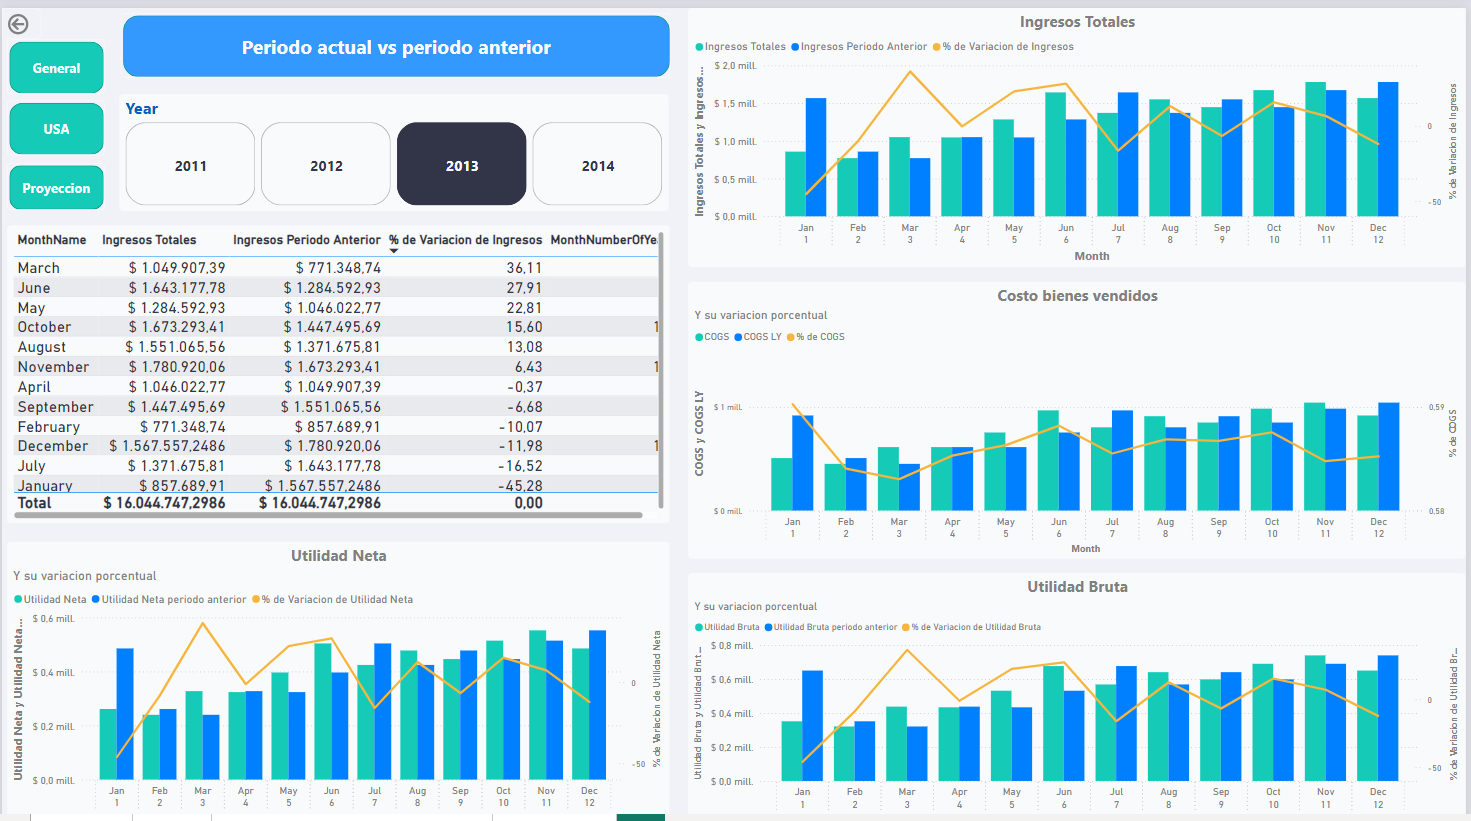

The dashboard page shown, as its layout file describes it:
{"tool":"powerbi","page":{"name":"Periodo actual vs Periodo anterior","canvas":[1920,1080],"ordinal":2},"visuals":[{"type":"lineClusteredColumnComboChart","title":"Ingresos Totales","fields":{"Y":["Medidas.Ingresos Totales","Medidas.Ingresos Periodo Anterior"],"Y2":["Medidas.% de Variacion de Ingresos"],"Category":["DimDate.MonthNumberOfYear","DimDate.Month Abbreviation"]},"box":[900.6,0,1019.4,340.2],"z":0,"group":"g1"},{"type":"lineClusteredColumnComboChart","title":"Utilidad Neta","fields":{"Y":["Medidas.Utilidad Neta","Medidas.Utilidad Neta periodo anterior"],"Y2":["Medidas.% de Variacion de Utilidad Neta"],"Category":["DimDate.MonthNumberOfYear","DimDate.Month Abbreviation"]},"box":[7.2,700.8,868.8,379.1],"z":0},{"type":"shape","title":"Periodo actual vs periodo anterior","box":[155.1,7.2,720.9,84.7],"z":1000},{"type":"lineClusteredColumnComboChart","title":"Costo bienes vendidos","fields":{"Category":["DimDate.MonthNumberOfYear","DimDate.Month Abbreviation"],"Y":["Medidas.COGS","Medidas.COGS LY"],"Y2":["Medidas.% de COGS"]},"box":[900.6,358.5,1019.4,363.5],"z":1000,"group":"g1"},{"type":"shape","title":"USA","box":[7.2,40.2,127.8,71.8],"z":2000},{"type":"lineClusteredColumnComboChart","title":"Utilidad Bruta ","fields":{"Y":["Medidas.Utilidad Bruta","Medidas.Utilidad Bruta periodo anterior"],"Y2":["Medidas.% de Variacion de Utilidad Bruta"],"Category":["DimDate.MonthNumberOfYear","DimDate.Month Abbreviation"]},"box":[900.4,740.2,1019.6,339.7],"z":2000,"group":"g1"},{"type":"shape","title":"USA","box":[7.2,120.6,127.8,71.8],"z":3000},{"type":"advancedSlicerVisual","fields":{"Values":["FactInternetSales.DueDate.Variation.Date Hierarchy.Year"]},"box":[155.1,112,720.9,152.2],"z":4000},{"type":"tableEx","fields":{"Values":["DimDate.MonthName","Medidas.Ingresos Totales","Medidas.Ingresos Periodo Anterior","Medidas.% de Variacion de Ingresos","DimDate.MonthNumberOfYear"]},"box":[7.2,285.8,868.8,390.6],"z":5000},{"type":"shape","title":"USA","box":[7.2,202.5,127.8,61.8],"z":6000},{"type":"actionButton","box":[0,0,50,40],"z":7000},{"type":"group","id":"g1","title":"Group 1","box":[900.4,0,1019.6,1079.9],"z":8000}]}

Visuals, with their boxes in screenshot pixels (x1, y1, x2, y2), scaled from the page's 1920x1080 canvas onto the 1471x821 screenshot:
"Ingresos Totales" lineClusteredColumnComboChart: [690,0,1470,259]
"Utilidad Neta" lineClusteredColumnComboChart: [6,533,671,820]
"Periodo actual vs periodo anterior" shape: [119,5,671,70]
"Costo bienes vendidos" lineClusteredColumnComboChart: [690,273,1470,549]
"USA" shape: [6,31,103,85]
"Utilidad Bruta " lineClusteredColumnComboChart: [690,563,1470,820]
"USA" shape: [6,92,103,146]
advancedSlicerVisual - FactInternetSales.DueDate.Variation.Date Hierarchy.Year: [119,85,671,201]
tableEx - DimDate.MonthName x Medidas.Ingresos Totales: [6,217,671,514]
"USA" shape: [6,154,103,201]
actionButton: [0,0,38,30]
"Group 1" group: [690,0,1470,820]
